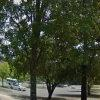Tree: (12, 7, 100, 79)
